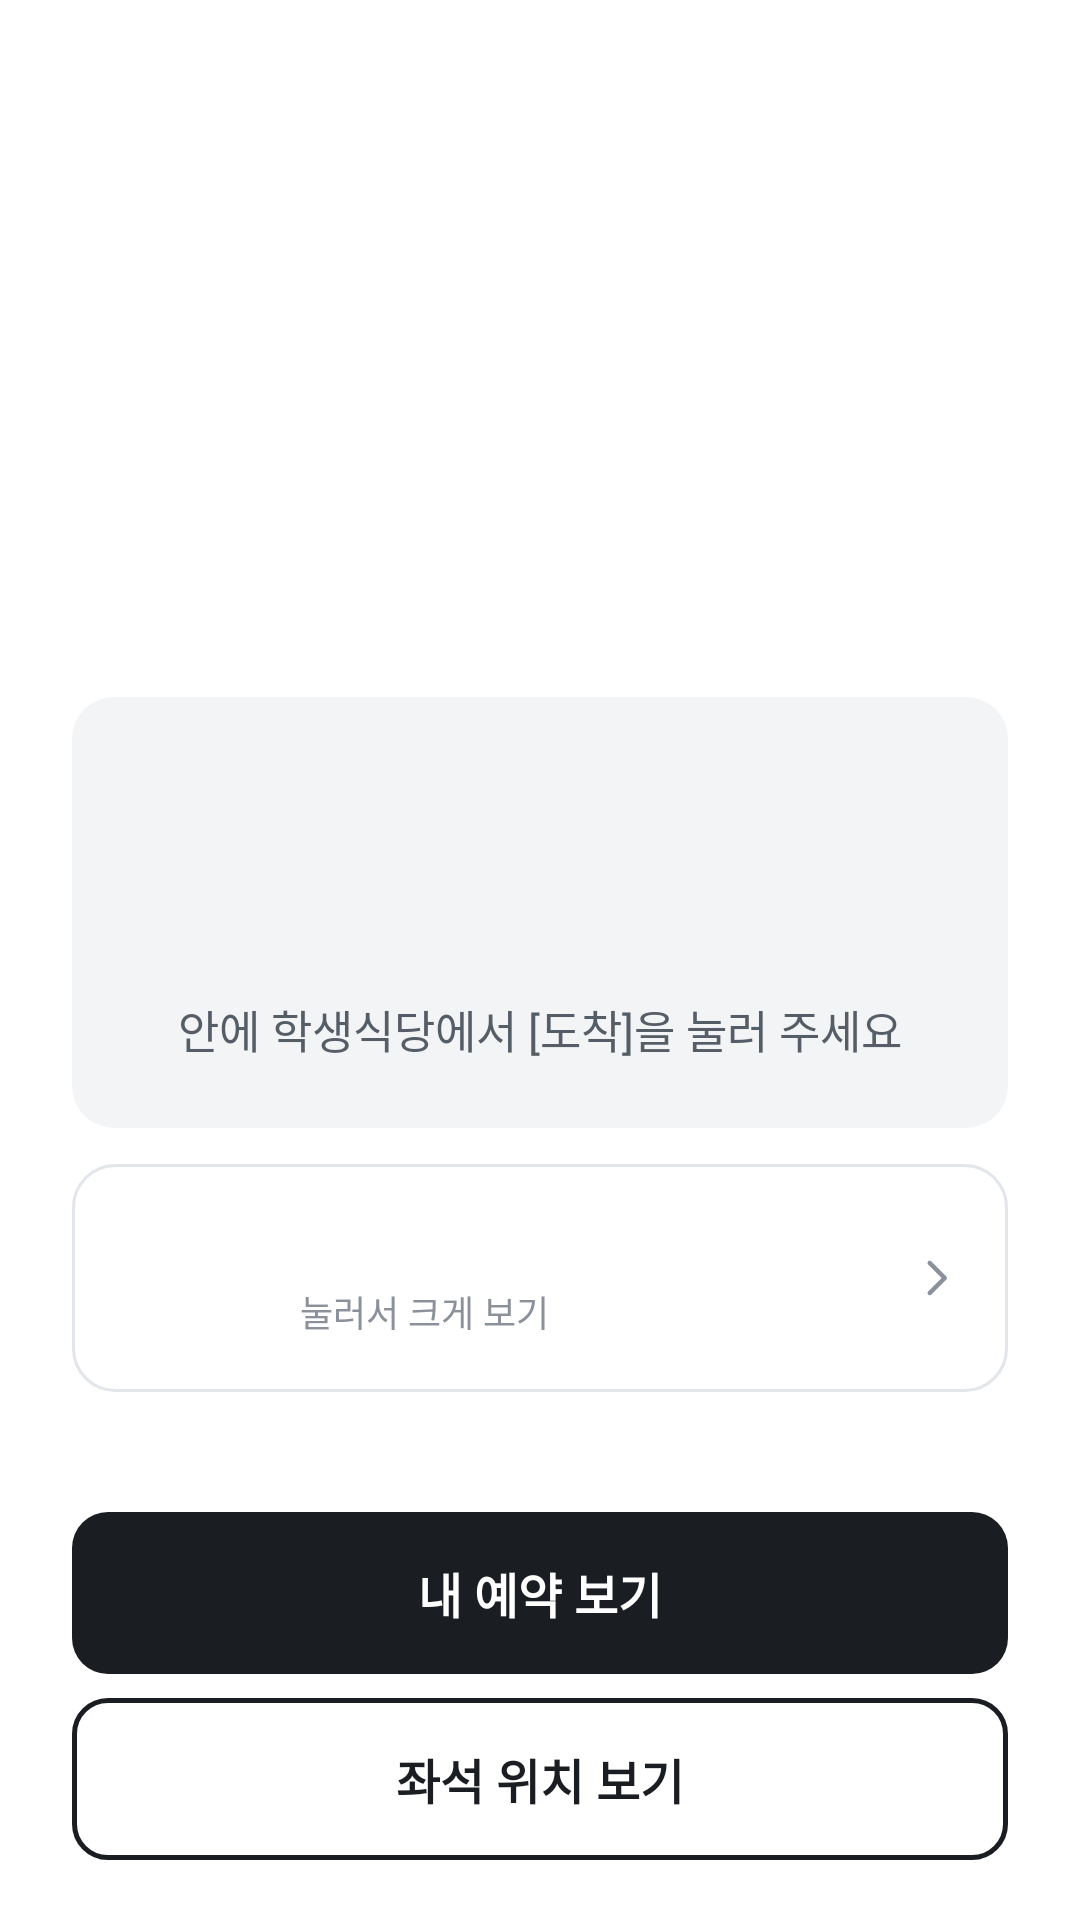

Icons on this 1080x1920 Android screen, each with its box as {"x1": x1, "y1": y1, "x2": x2, "y2": y2}:
chevron: {"x1": 927, "y1": 1260, "x2": 947, "y2": 1296}
